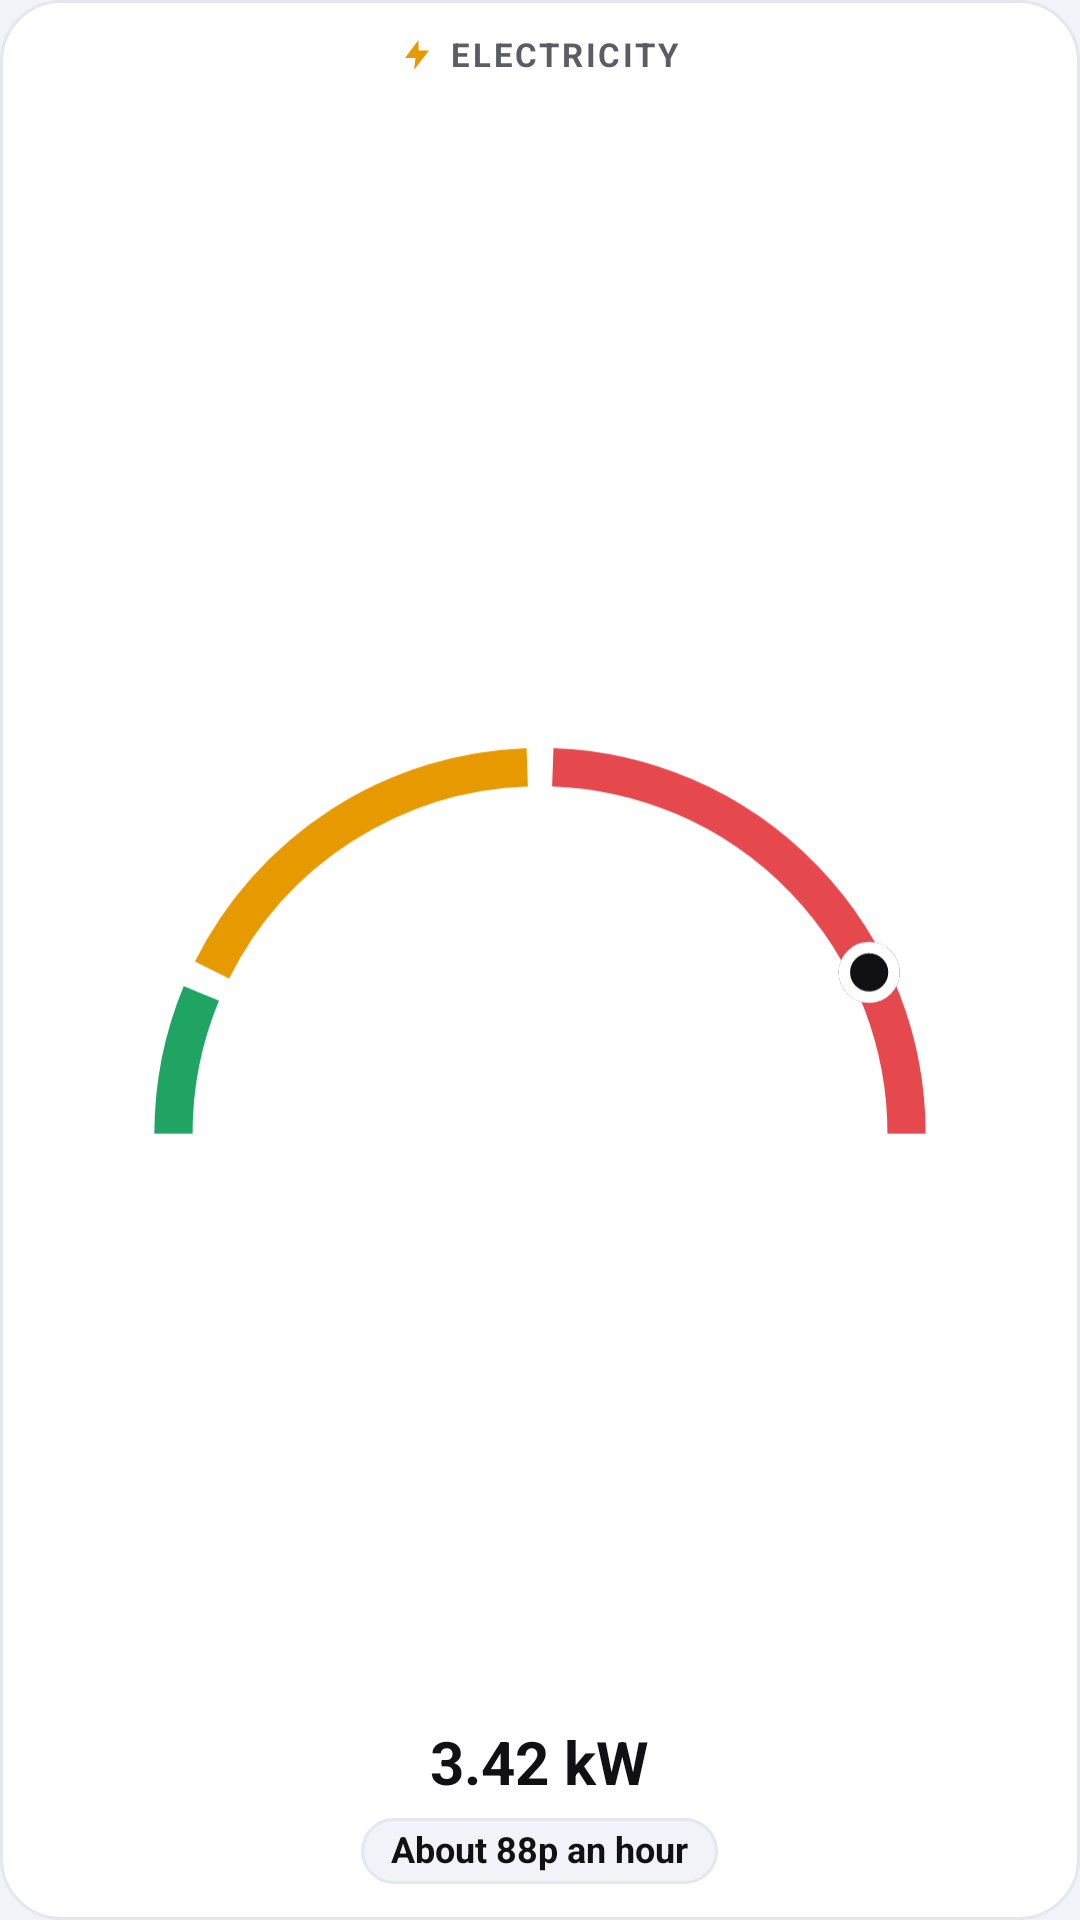

Icons on this 1080px×1920px Android screen, each with its box as {"left": x1, "top": y1, "right": x2, "bottom": y2}:
bolt: {"left": 405, "top": 40, "right": 429, "bottom": 70}
